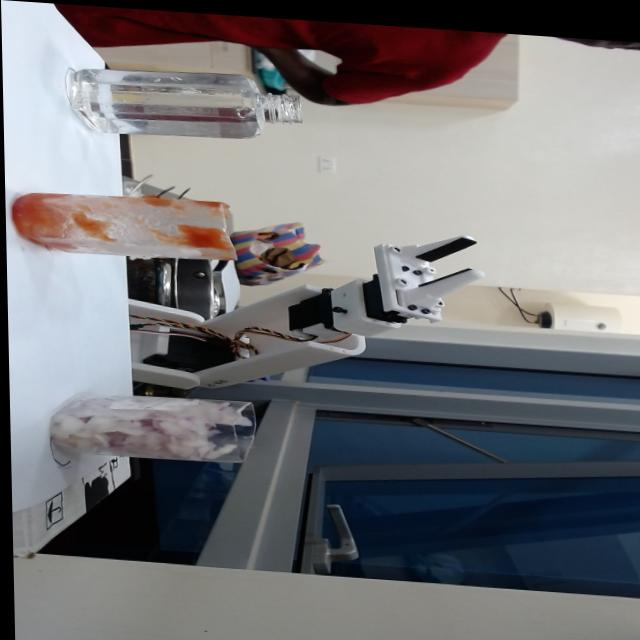blended_tomatoes_pepper: (9, 190, 102, 254)
sliced_onions: (45, 391, 250, 461)
